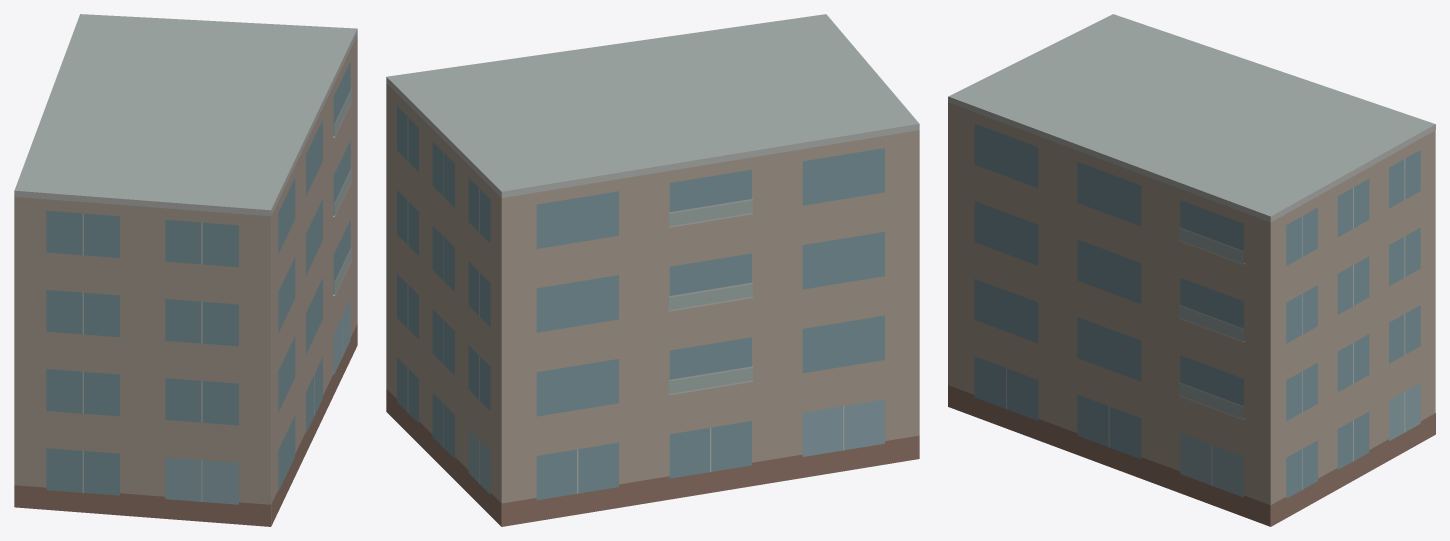
File: survey-upis-32761270.glb
The picture shows the model from 3 angles, left to right: view 1: azimuth 30°, elevation 25°; view 2: azimuth 150°, elevation 25°; view 3: azimuth 270°, elevation 25°; orthographic projection. The views are drawn at different scales.
Parts seen in each view (by area): view 1: survey-upis-32761270.tmp; view 2: survey-upis-32761270.tmp; view 3: survey-upis-32761270.tmp.
Boxes of the visible parts, x1,y1,x2,y2 form: survey-upis-32761270.tmp: [14, 14, 357, 526]; survey-upis-32761270.tmp: [386, 14, 919, 526]; survey-upis-32761270.tmp: [948, 14, 1435, 526].
Size of the model in its own units: 17.93 by 12.8 by 18.24.
